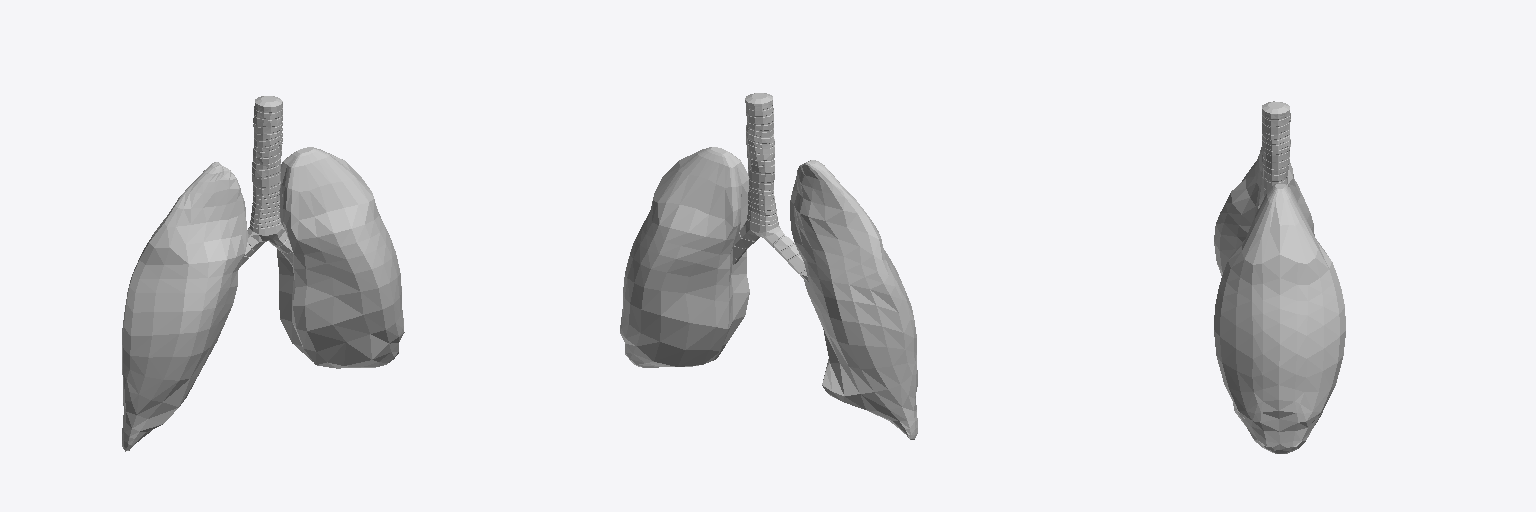
File: rokok.obj
The picture shows the model from 3 angles: view 1: azimuth 30°, elevation 25°; view 2: azimuth 150°, elevation 25°; view 3: azimuth 270°, elevation 25°; orthographic projection.
Visible parts, largest first — view 1: Object008_Mesh; view 2: Object008_Mesh; view 3: Object008_Mesh.
Boxes of the visible parts, box(x1,y1,x2,y2) form: Object008_Mesh: box(122, 96, 404, 451); Object008_Mesh: box(620, 93, 917, 439); Object008_Mesh: box(1214, 101, 1345, 453).
Bounding box in the file's own units: 4.41 × 4.7 × 1.81.